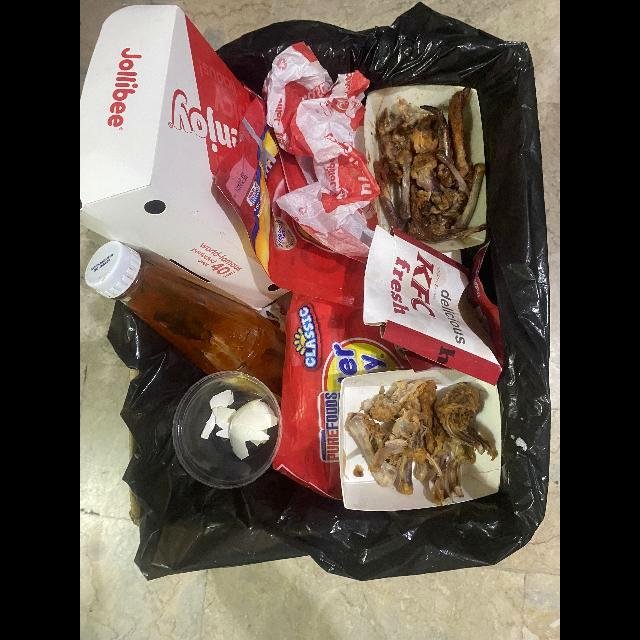cardboard: (80, 5, 287, 313), (364, 223, 502, 386)
food_wrapper: (272, 290, 447, 500), (213, 94, 368, 311)
glass_bottle: (83, 241, 287, 405)
left_over_food: (348, 378, 497, 508), (374, 88, 490, 243)
